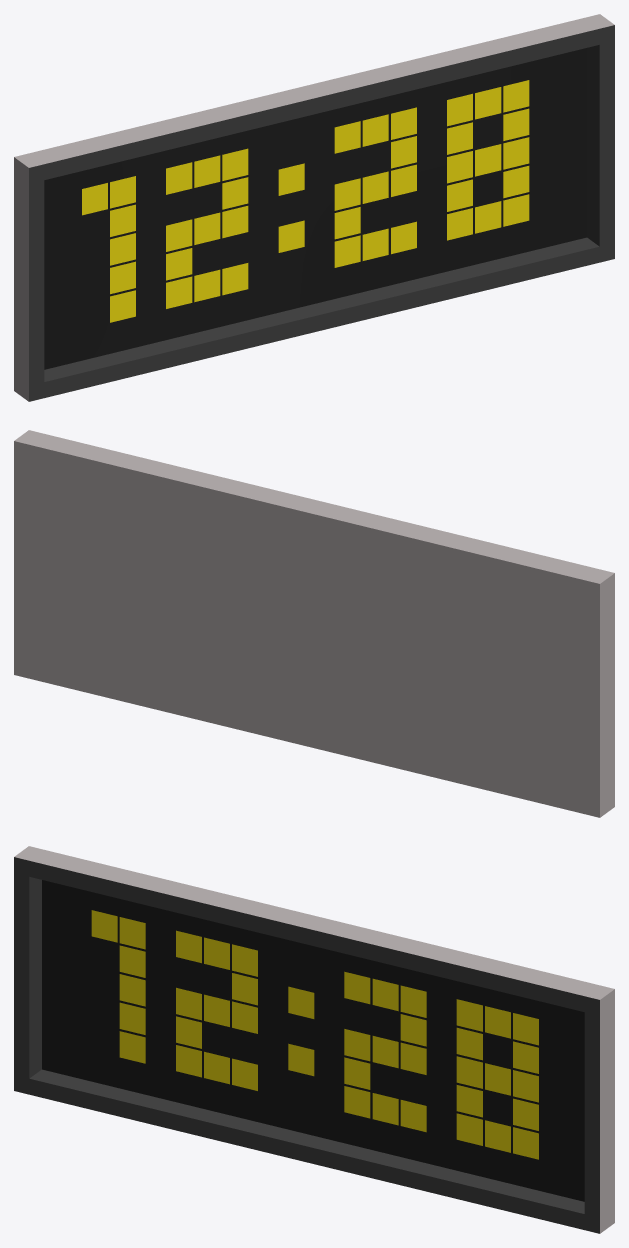
File: prop_103.glb
3 views of the same model, one above another, from view 1: azimuth 30°, elevation 25°; view 2: azimuth 150°, elevation 25°; view 3: azimuth 330°, elevation 25° (orthographic).
Parts seen in each view (by area): view 1: prop_103; view 2: prop_103; view 3: prop_103.
Part boxes in pixels (x1,y1,x2,y2): prop_103: (14, 14, 614, 401); prop_103: (14, 430, 614, 817); prop_103: (14, 846, 614, 1233).
Size of the model in its own units: 1.11 by 0.4236 by 0.0492.
1 material, 1 textured.
